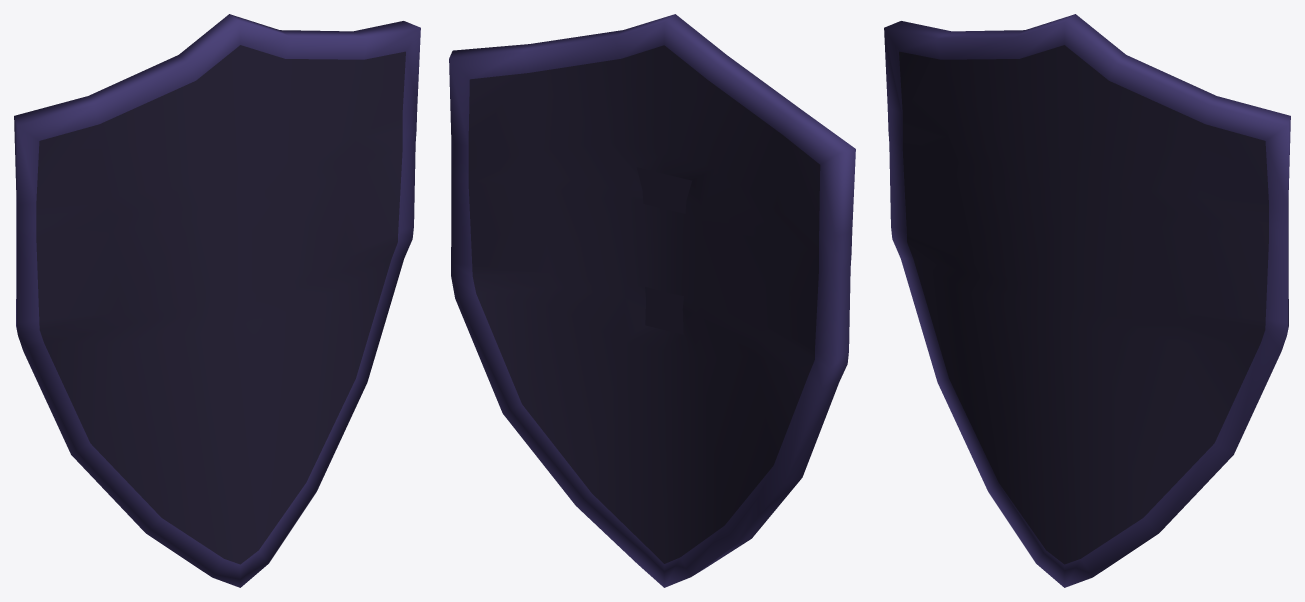
File: kite-shield.glb
The picture shows the model from 3 angles, left to right: view 1: azimuth 30°, elevation 25°; view 2: azimuth 150°, elevation 25°; view 3: azimuth 330°, elevation 25°; orthographic projection.
Parts seen in each view (by area): view 1: Shield - Kite Shield - System G6; view 2: Shield - Kite Shield - System G6; view 3: Shield - Kite Shield - System G6.
Part boxes in pixels (<box>): Shield - Kite Shield - System G6: <box>14,14,420,587</box>; Shield - Kite Shield - System G6: <box>449,14,855,587</box>; Shield - Kite Shield - System G6: <box>884,14,1290,587</box>.
Size of the model in its own units: 0.5611 by 0.7523 by 0.0916.
